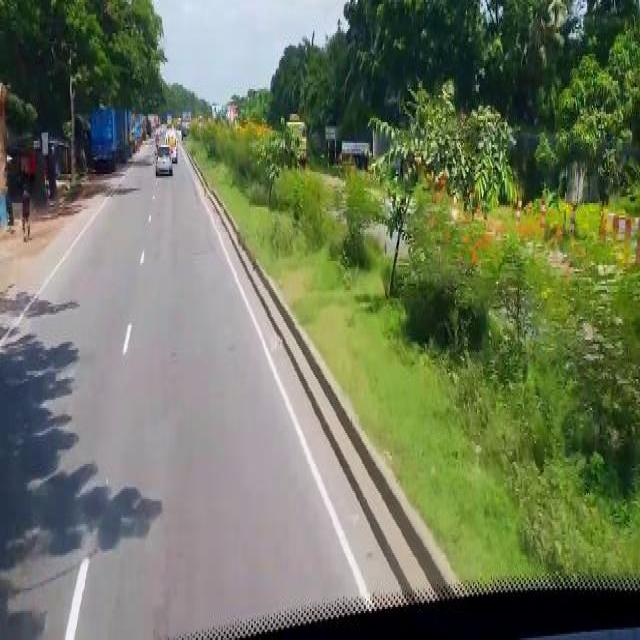suv: (153, 141, 173, 178)
